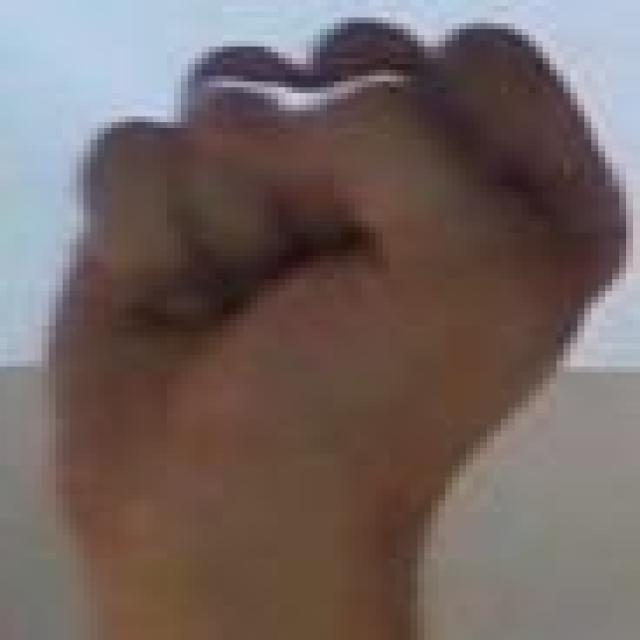S: (18, 22, 631, 486)
